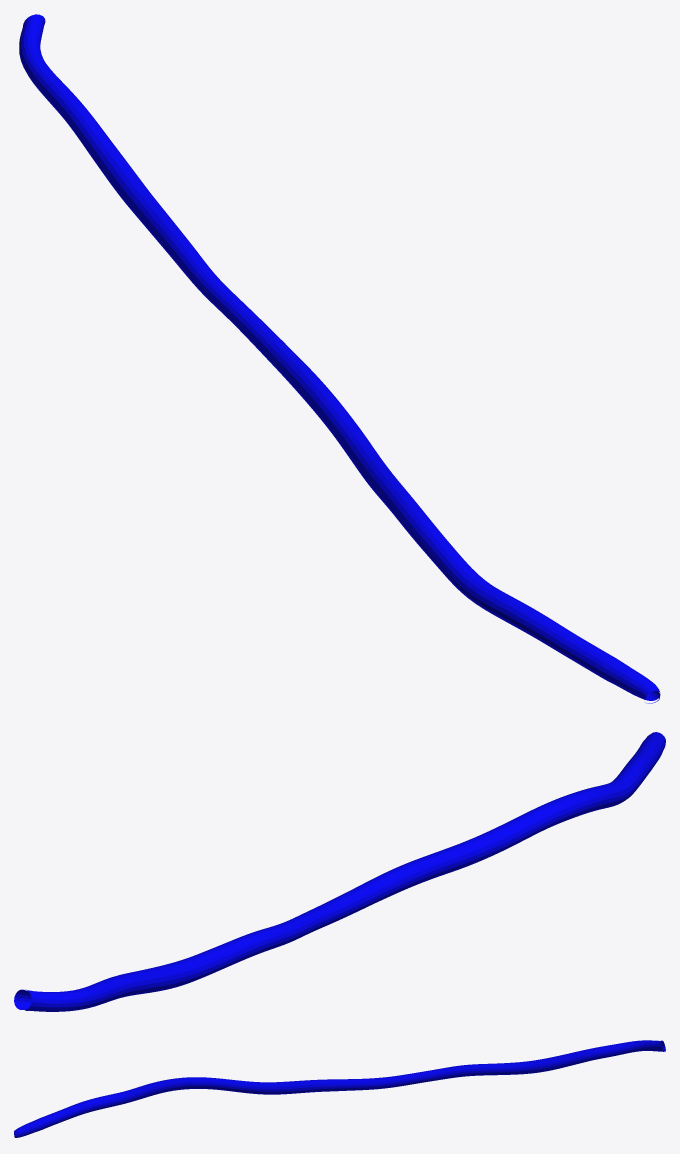
The model's file is frau2-709.glb.
3 views of the same model, one above another, from view 1: azimuth 30°, elevation 25°; view 2: azimuth 150°, elevation 25°; view 3: azimuth 270°, elevation 25° (orthographic). The views are drawn at different scales.
Visible parts, largest first — view 1: VH_F_inferior_ophthalmic_vein_R; view 2: VH_F_inferior_ophthalmic_vein_R; view 3: VH_F_inferior_ophthalmic_vein_R.
Part boxes in pixels (left/top/right/bottom): VH_F_inferior_ophthalmic_vein_R: left=19, top=14, right=660, bottom=703; VH_F_inferior_ophthalmic_vein_R: left=14, top=732, right=665, bottom=1011; VH_F_inferior_ophthalmic_vein_R: left=14, top=1040, right=665, bottom=1137.
Bounding box in the file's own units: 0.00471 × 0.0078 × 0.0438.
